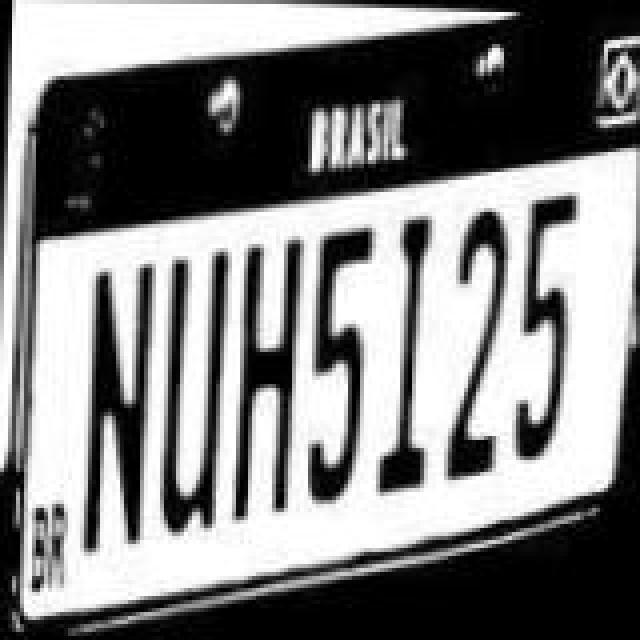2: (438, 180, 518, 468)
5: (304, 198, 380, 486), (514, 172, 586, 444)
H: (226, 214, 310, 506)
I: (372, 188, 448, 480)
N: (78, 242, 162, 554)
U: (150, 226, 234, 530)
